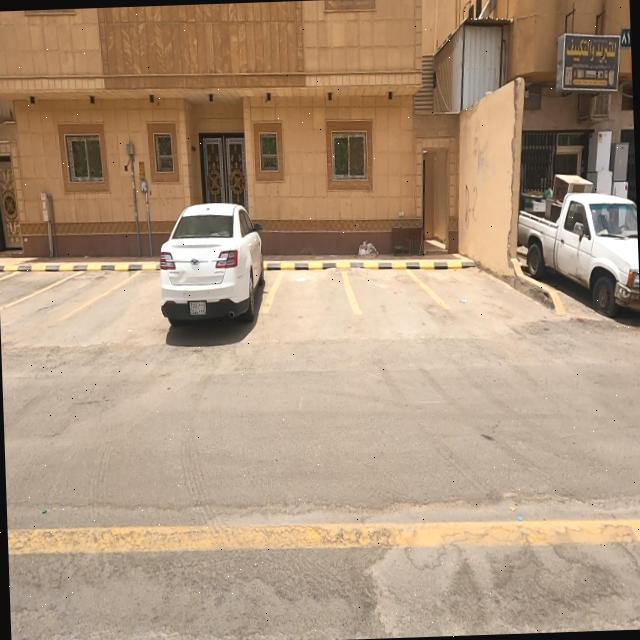Graffiti: (460, 181, 480, 226)
